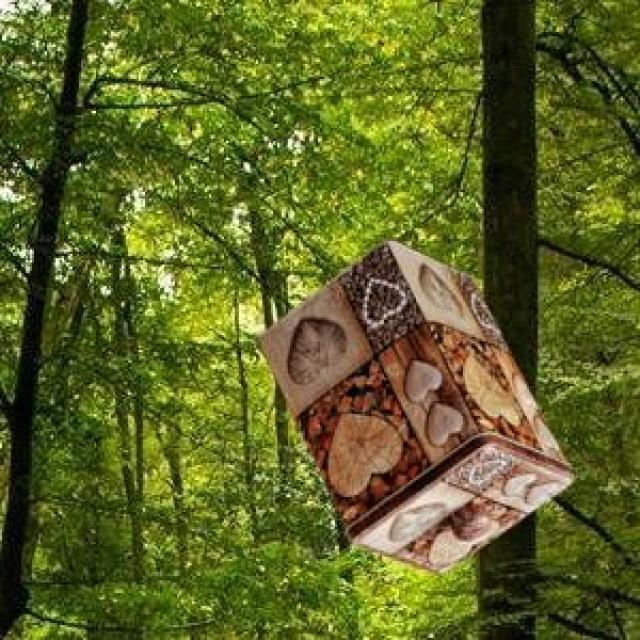Can: (255, 238, 571, 569)
